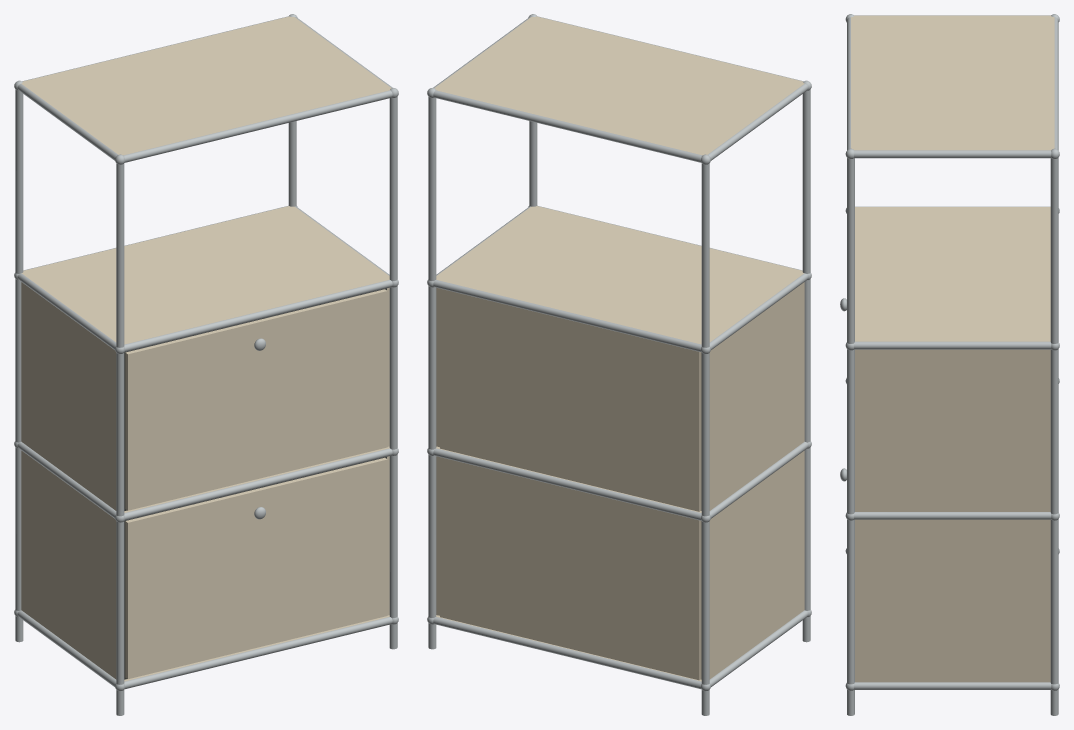
Rendered from layer-600-1135-ivory.glb.
3 views of the same model, side by side, from view 1: azimuth 30°, elevation 25°; view 2: azimuth 150°, elevation 25°; view 3: azimuth 270°, elevation 25° (orthographic).
Visible parts, largest first — view 1: drop down door (×2), horizontal panel (×2), left side, 15mm stainless tube (×12), right side; view 2: back, horizontal panel (×2), left side, 15mm stainless tube (×12), right side; view 3: right side, horizontal panel (×2), 15mm stainless tube (×8).
Boxes of the visible parts, box(x1,y1,x2,y2) form: drop down door (×2): box(125, 289, 387, 678); horizontal panel (×2): box(21, 16, 391, 344); left side: box(21, 282, 116, 679); 15mm stainless tube (×12): box(15, 84, 397, 715); right side: box(387, 287, 389, 615); back: box(440, 288, 700, 680); horizontal panel (×2): box(434, 16, 804, 344); left side: box(700, 282, 804, 679); 15mm stainless tube (×12): box(428, 84, 810, 715); right side: box(436, 287, 439, 615); right side: box(855, 349, 1050, 682); horizontal panel (×2): box(851, 15, 1054, 341); 15mm stainless tube (×8): box(847, 17, 1058, 715).
Size of the model in its own units: 0.6 by 1.14 by 0.4.
